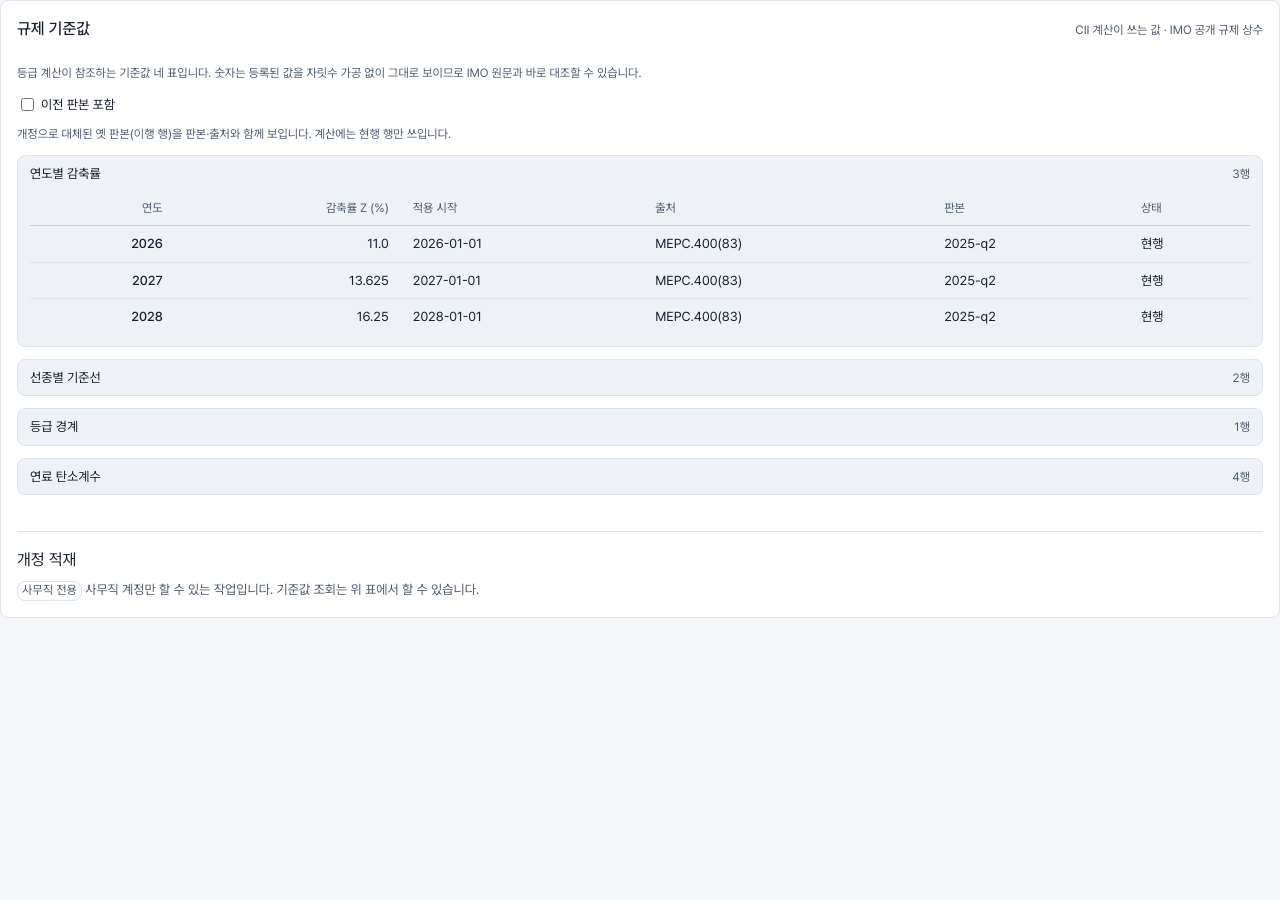
「이전 판본 포함」 (`#1239` 결정 C) › 이행 행이 섞여 보이되 활성 행과 구분된다 — 판본이 붙는다
Click the checkbox with test id "regp-include-inactive".
click(28, 104)  # box [21,98,34,111]
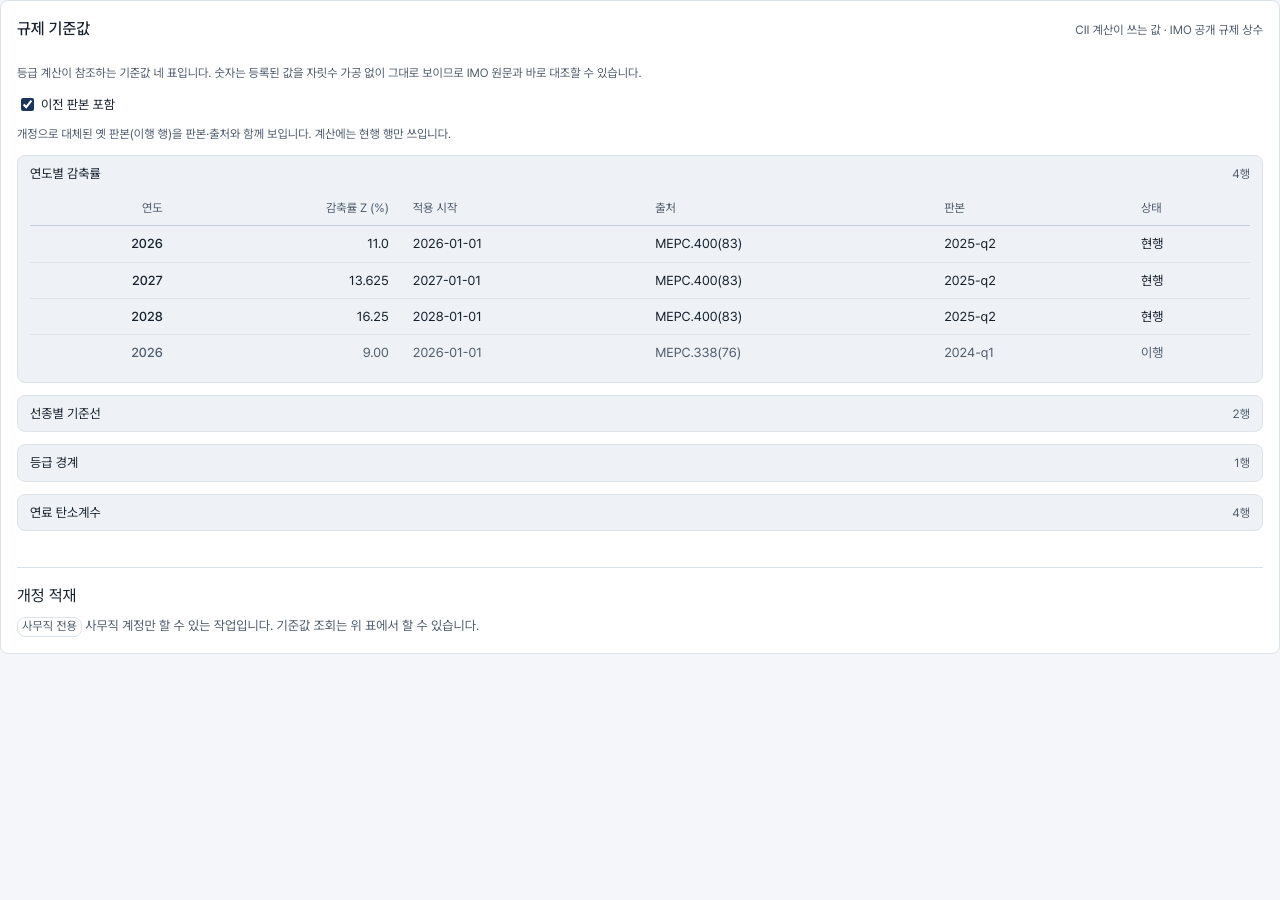
Expected: the row "2026 9.00 2026-01-01 MEPC.338(76) 2024-q1 이행" is shown, [30,334,1250,370]
